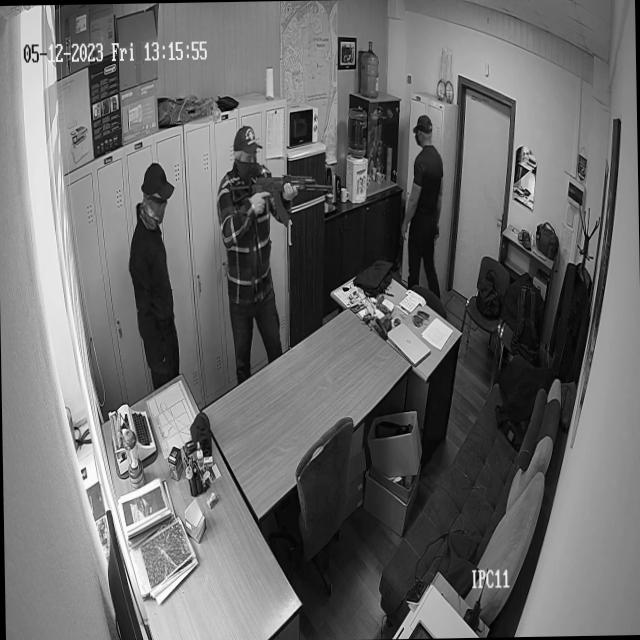gun: (232, 175, 334, 222)
person: (130, 162, 179, 390), (400, 116, 444, 302)
person with a gun: (216, 124, 338, 382)
